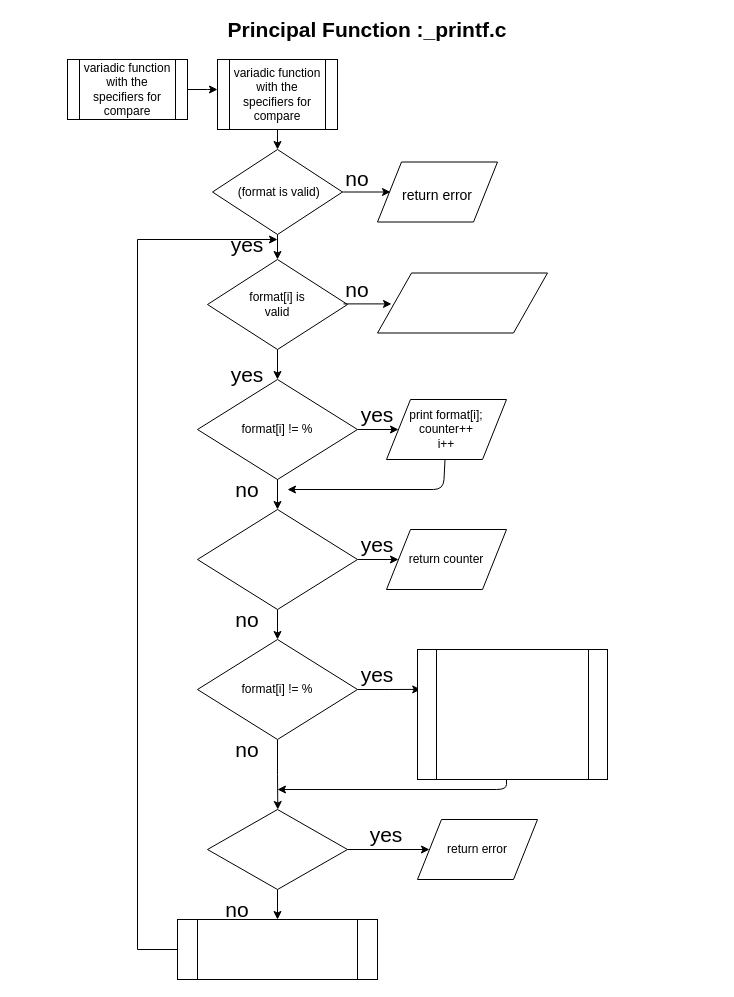
The diagram is 734 pixels wide and 997 high, and some of its shapes have lost their labels. The centre of each missing label's shape, as x and y in pixels:
call check_format function f = check_format() i = i +2 (for jump de %especifier): the point at 512,714
counter = counter + f(list of variadic function): the point at 277,949
end list return counter: the point at 462,302
f = NULL: the point at 277,849
format[i] != '\0': the point at 277,559
